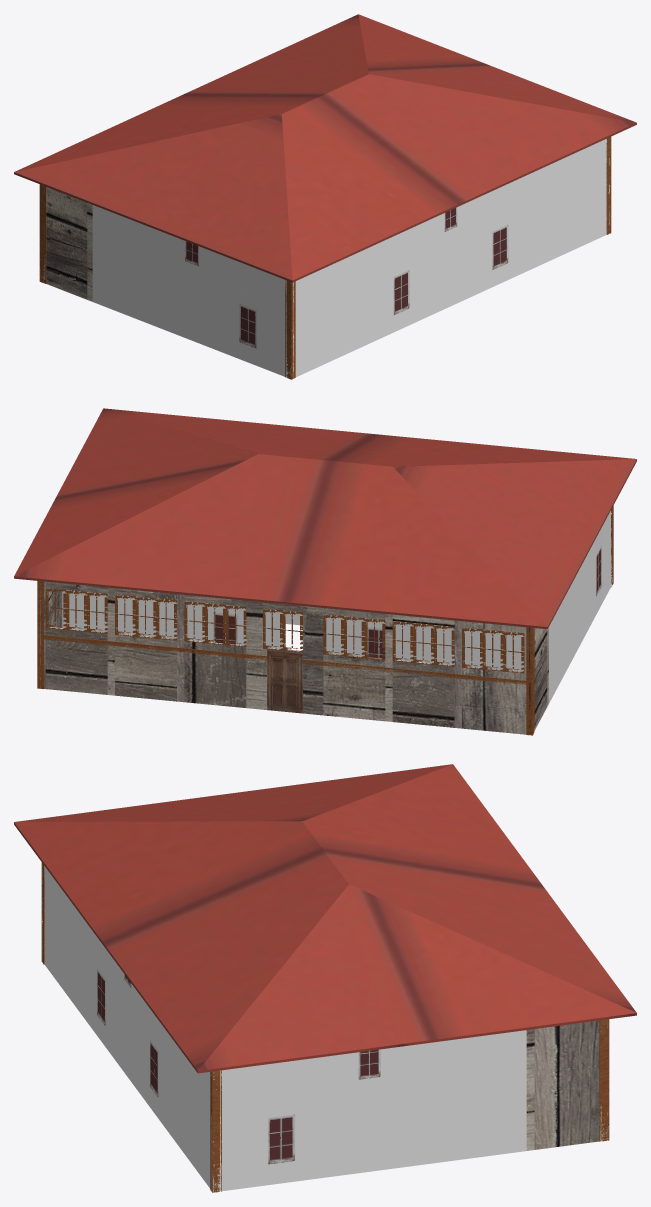
The model's file is cami.fbx.
3 views of the same model, one above another, from view 1: azimuth 30°, elevation 25°; view 2: azimuth 150°, elevation 25°; view 3: azimuth 270°, elevation 25° (orthographic). The views are drawn at different scales.
Parts seen in each view (by area): view 1: KONTR .20, 4ef6bd918dfe95818cd8a49827cd2f4c.png, duvar; view 2: KONTR .20, duvar, ANT-INT-78.png, 4ef6bd918dfe95818cd8a49827cd2f4c.png; view 3: KONTR .20, duvar, 4ef6bd918dfe95818cd8a49827cd2f4c.png.
Part boxes in pixels (x1,y1,x2,y2): KONTR .20: [14, 14, 636, 378]; 4ef6bd918dfe95818cd8a49827cd2f4c.png: [185, 207, 508, 348]; duvar: [39, 137, 611, 379]; KONTR .20: [14, 408, 636, 734]; duvar: [37, 505, 613, 735]; ANT-INT-78.png: [267, 650, 302, 713]; 4ef6bd918dfe95818cd8a49827cd2f4c.png: [213, 545, 601, 658]; KONTR .20: [14, 764, 636, 1191]; duvar: [41, 862, 609, 1192]; 4ef6bd918dfe95818cd8a49827cd2f4c.png: [97, 969, 380, 1164].
Bounding box in the file's own units: 25.42 × 21.81 × 7.66.
Materials: 6 (5 with a texture image).
